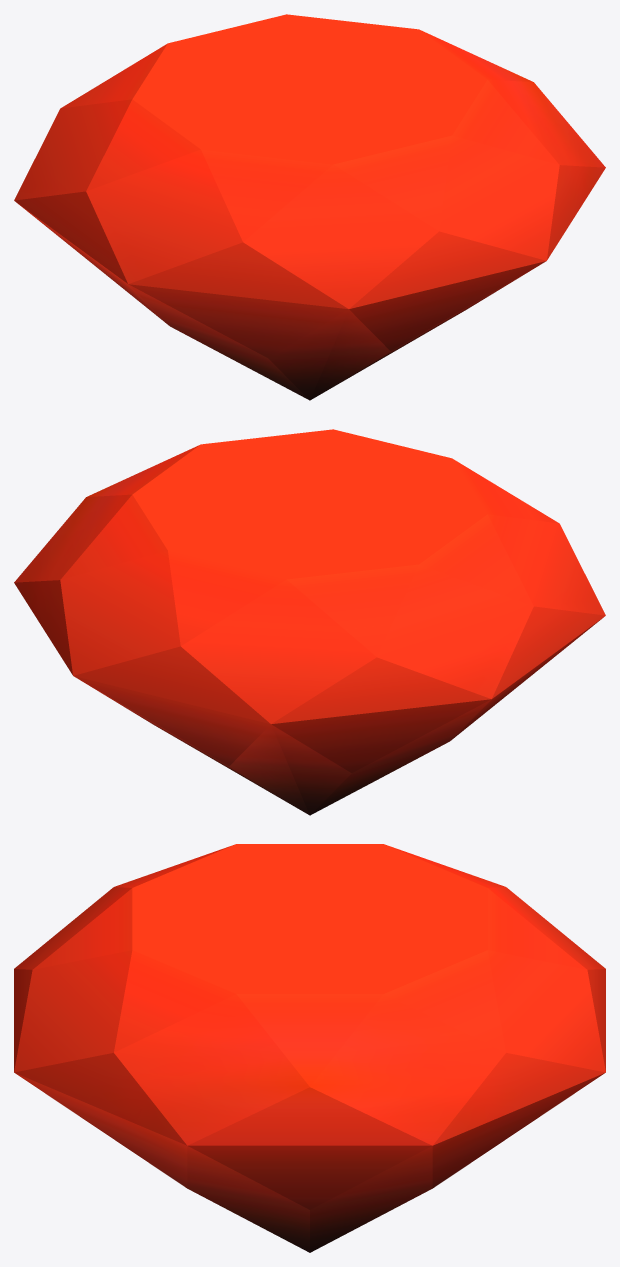
Rendered from Gem.004.glb.
The picture shows the model from 3 angles, top to bottom: view 1: azimuth 30°, elevation 25°; view 2: azimuth 150°, elevation 25°; view 3: azimuth 270°, elevation 25°; orthographic projection. The views are drawn at different scales.
Parts seen in each view (by area): view 1: Gem.004; view 2: Gem.004; view 3: Gem.004.
Part boxes in pixels (left/top/right/bottom): Gem.004: left=14, top=14, right=605, bottom=400; Gem.004: left=14, top=429, right=605, bottom=815; Gem.004: left=14, top=844, right=605, bottom=1252.
Size of what is drawn, in the model's own units: 0.2875 by 0.179 by 0.2875.
1 material, 1 textured.
